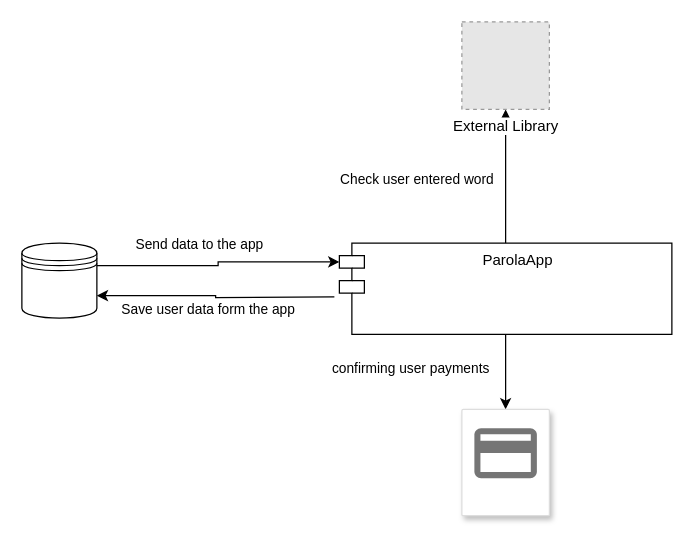
The diagram is 694 pixels wide and 546 high, and some of its shapes have lost their labels. Grey dashed boxes stand in for pictures. Each missing label, with the centre of its shape:
Database: the point at 59,280
Payment: the point at 506,463
